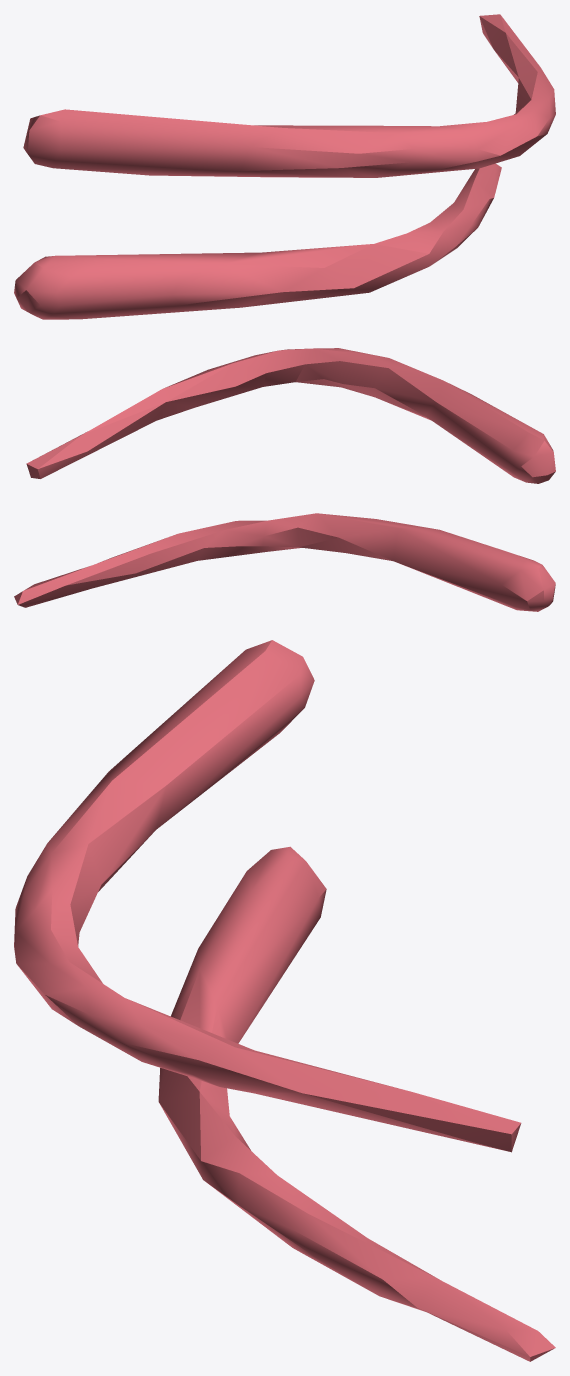
The model's file is fma50567_fj1689m.glb.
3 views of the same model, one above another, from view 1: azimuth 30°, elevation 25°; view 2: azimuth 150°, elevation 25°; view 3: azimuth 270°, elevation 25° (orthographic). The views are drawn at different scales.
Parts seen in each view (by area): view 1: FMA50567_FJ1689M; view 2: FMA50567_FJ1689M; view 3: FMA50567_FJ1689M.
Part boxes in pixels (left/top/right/bottom): FMA50567_FJ1689M: left=14, top=14, right=555, bottom=319; FMA50567_FJ1689M: left=14, top=348, right=555, bottom=611; FMA50567_FJ1689M: left=14, top=640, right=555, bottom=1361.
Bounding box in the file's own units: 0.00973 × 0.00439 × 0.00588.
